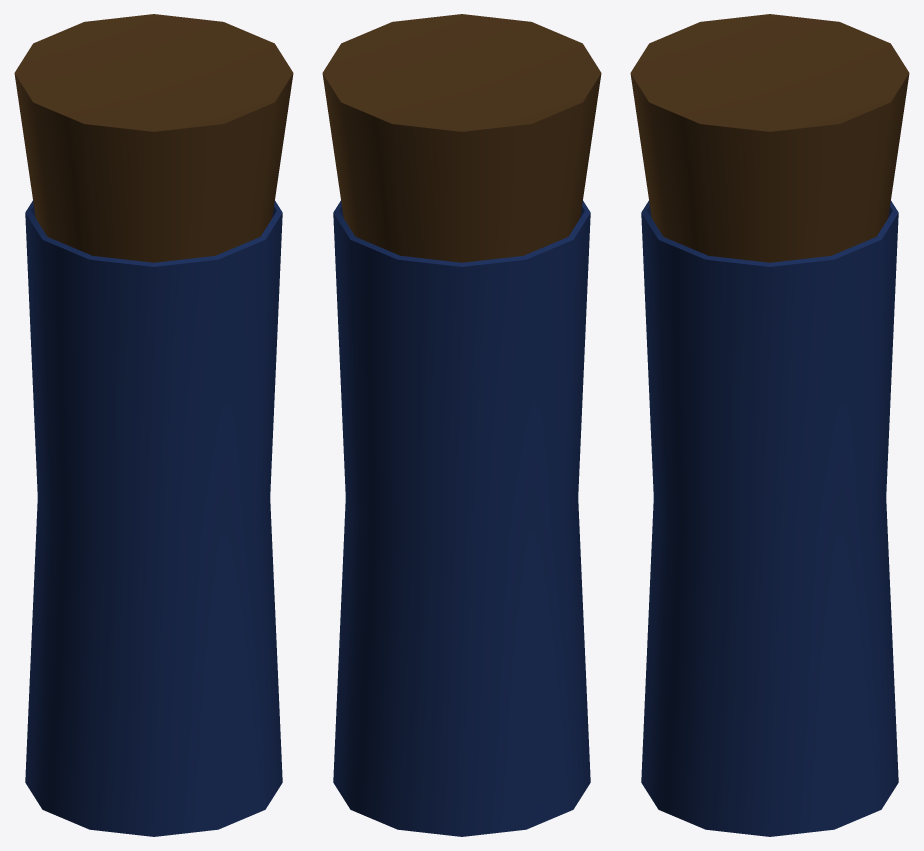
File: flaska6.obj
3 renders of one model, left to right at view 1: azimuth 30°, elevation 25°; view 2: azimuth 150°, elevation 25°; view 3: azimuth 270°, elevation 25°, orthographic.
Parts seen in each view (by area): view 1: flaska5; view 2: flaska5; view 3: flaska5.
Boxes of the visible parts, x1,y1,x2,y2 form: flaska5: (14, 14, 293, 836); flaska5: (322, 14, 601, 836); flaska5: (630, 14, 909, 836).
Size of the model in its own units: 0.2683 by 0.7529 by 0.2683.
